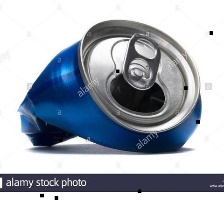can: (9, 12, 211, 167)
